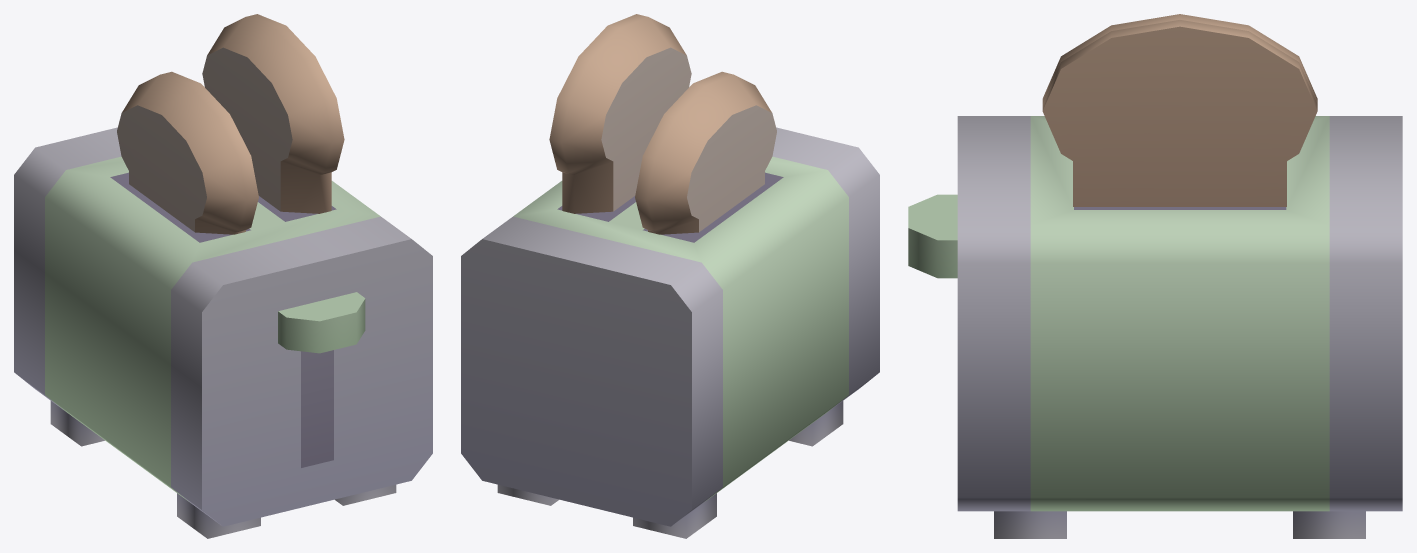
Rendered from toaster-bread.glb.
3 views of the same model, side by side, from view 1: azimuth 30°, elevation 25°; view 2: azimuth 150°, elevation 25°; view 3: azimuth 270°, elevation 25° (orthographic). The views are drawn at different scales.
Parts seen in each view (by area): view 1: toaster-bread; view 2: toaster-bread; view 3: toaster-bread.
Boxes of the visible parts, x1,y1,x2,y2 form: toaster-bread: (14,14,432,538); toaster-bread: (461,14,879,538); toaster-bread: (908,14,1402,538).
Size of the model in its own units: 0.164 by 0.2832 by 0.2567.
